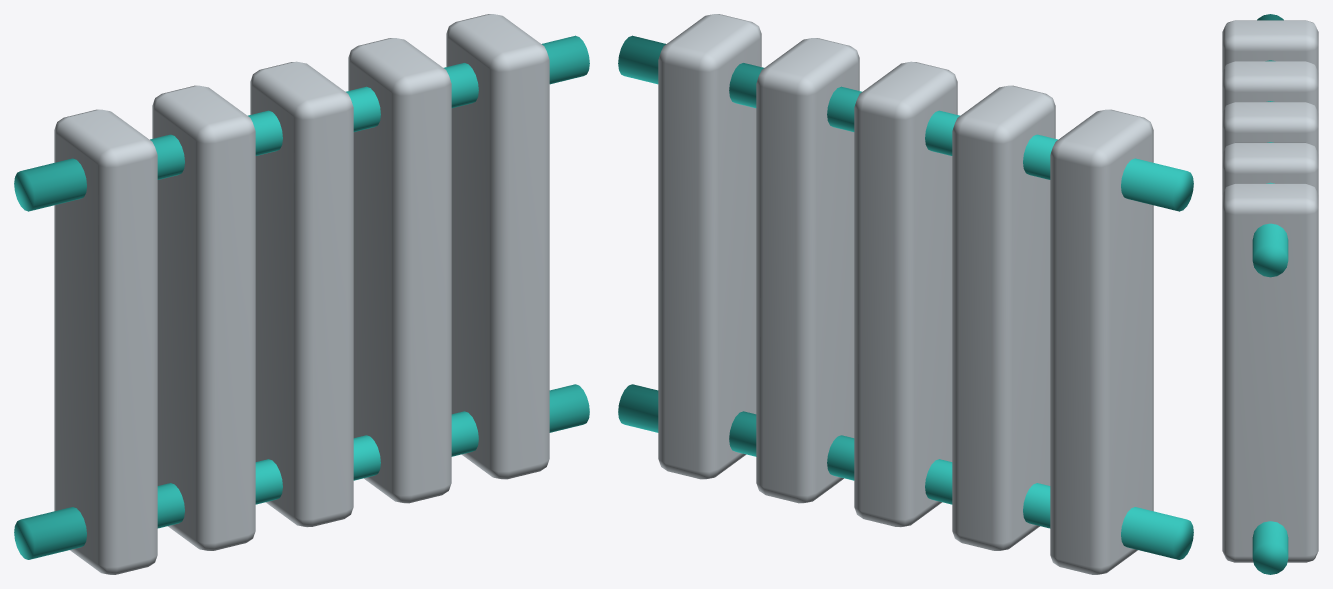
The model's file is radiator-lite.glb.
3 views of the same model, side by side, from view 1: azimuth 30°, elevation 25°; view 2: azimuth 150°, elevation 25°; view 3: azimuth 270°, elevation 25° (orthographic). The views are drawn at different scales.
Parts seen in each view (by area): view 1: Radiator fin; view 2: Radiator fin; view 3: Radiator fin.
Part boxes in pixels (x1,y1,x2,y2): Radiator fin: (14, 14, 589, 574); Radiator fin: (618, 14, 1193, 574); Radiator fin: (1222, 14, 1318, 574).
Bounding box in the file's own units: 1.7 × 1.25 × 0.3.
